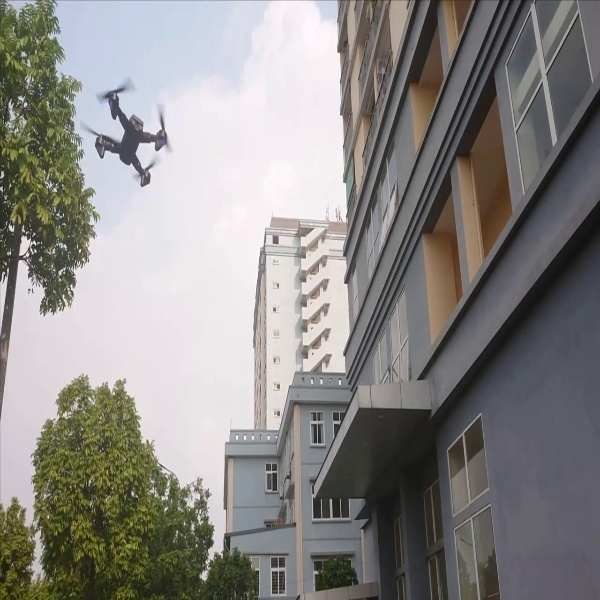drone: (75, 73, 185, 204)
